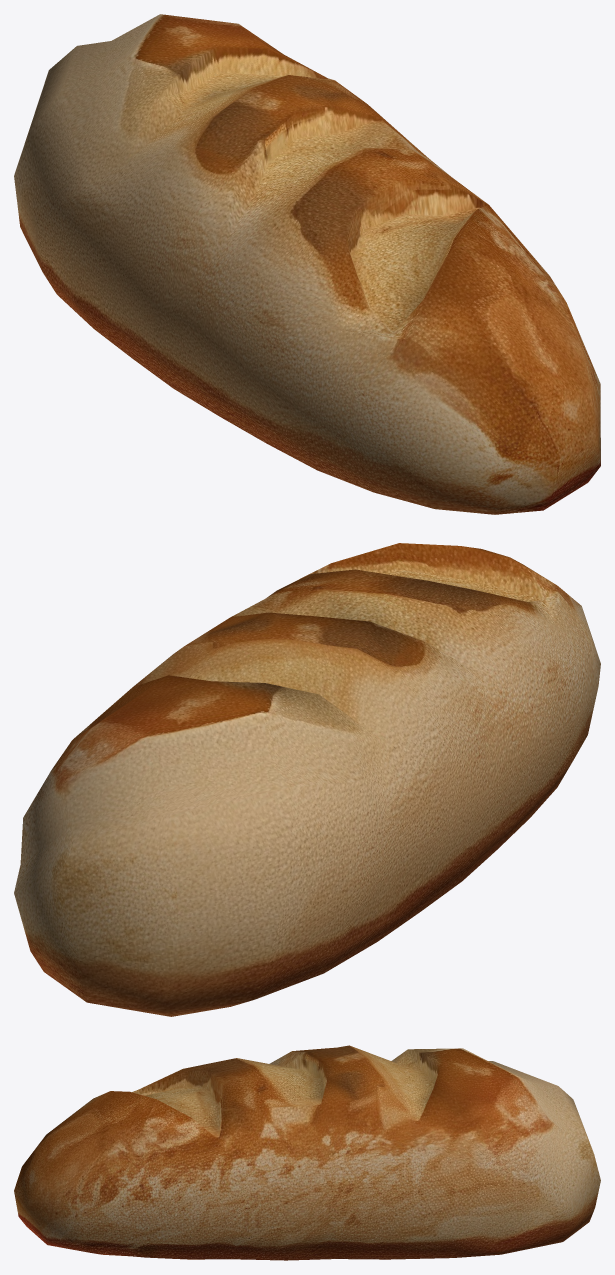
The picture shows the model from 3 angles, top to bottom: view 1: azimuth 30°, elevation 25°; view 2: azimuth 150°, elevation 25°; view 3: azimuth 270°, elevation 25°; orthographic projection. The views are drawn at different scales.
Visible parts, largest first — view 1: tripo_node_4bd03b1d-e5df-4f38-9d0c-370269375da0; view 2: tripo_node_4bd03b1d-e5df-4f38-9d0c-370269375da0; view 3: tripo_node_4bd03b1d-e5df-4f38-9d0c-370269375da0.
Part boxes in pixels (<box>): tripo_node_4bd03b1d-e5df-4f38-9d0c-370269375da0: <box>14,14,600,514</box>; tripo_node_4bd03b1d-e5df-4f38-9d0c-370269375da0: <box>14,543,600,1016</box>; tripo_node_4bd03b1d-e5df-4f38-9d0c-370269375da0: <box>14,1045,600,1260</box>.
Bounding box in the file's own units: 0.4004 × 0.3301 × 0.998.
Materials: 1 (1 with a texture image).
